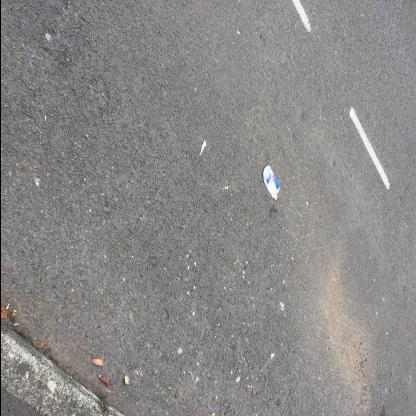Metal: (262, 166, 279, 200)
Waste: (198, 141, 205, 156)
